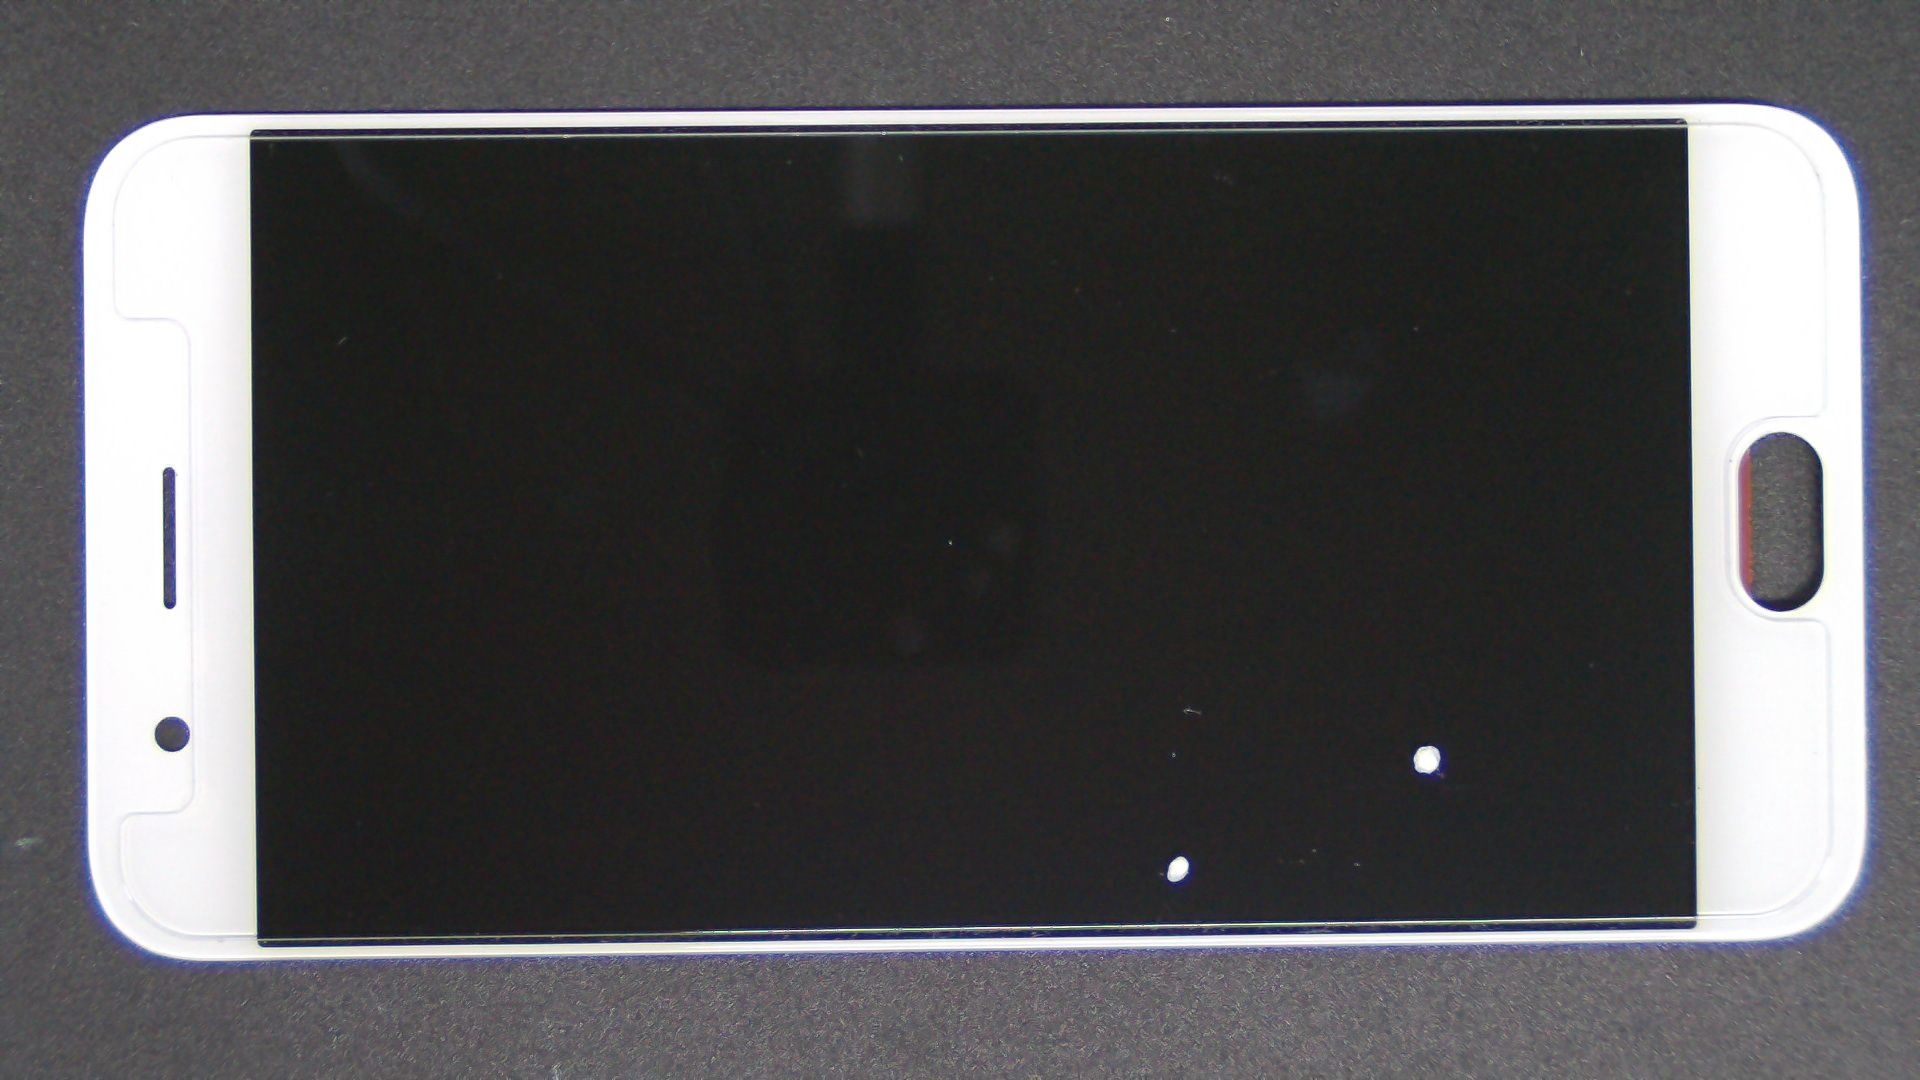oil: (713, 372, 1920, 1080), (589, 426, 1763, 1080)
